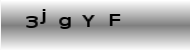3: (25, 15, 38, 28)
F: (109, 13, 120, 26)
Y: (81, 14, 94, 27)
g: (57, 15, 71, 29)
j: (40, 8, 46, 24)
